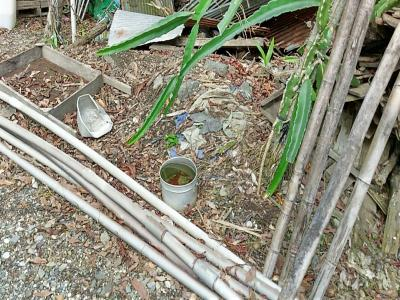box: (1, 43, 107, 121)
bucket: (158, 155, 199, 214)
plastic_bag: (75, 96, 113, 138)
